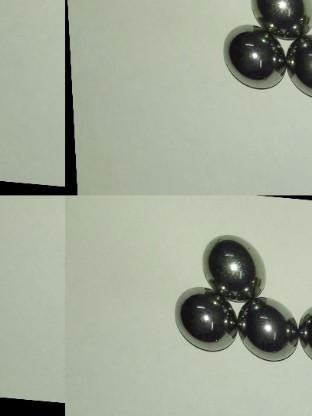ironball: (230, 288, 297, 366), (202, 233, 270, 303), (217, 24, 287, 91), (171, 283, 234, 352), (250, 0, 310, 35), (289, 34, 310, 100), (292, 299, 312, 359)
